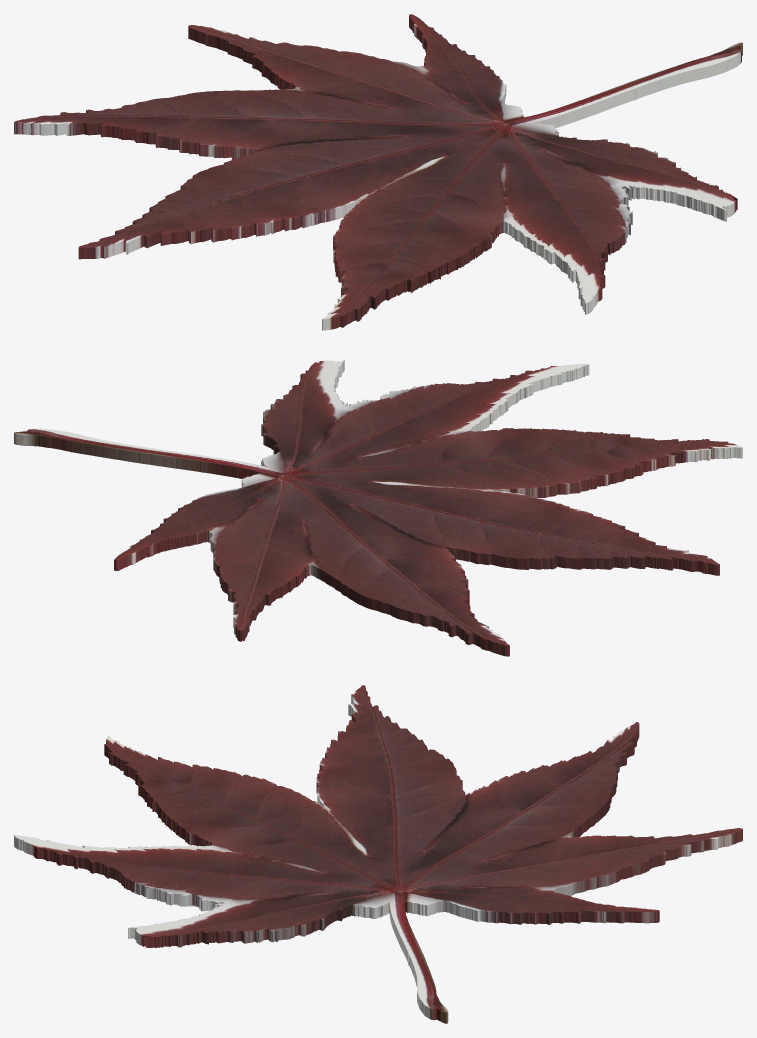
File: textured_japanese_maple_asset.glb
3 renders of one model, top to bottom at view 1: azimuth 30°, elevation 25°; view 2: azimuth 150°, elevation 25°; view 3: azimuth 270°, elevation 25°, orthographic. The views are drawn at different scales.
Parts seen in each view (by area): view 1: Mesh; view 2: Mesh; view 3: Mesh.
Part boxes in pixels (x1=…): Mesh: x1=14, y1=14, x2=742, y2=330; Mesh: x1=14, y1=359, x2=742, y2=656; Mesh: x1=14, y1=685, x2=742, y2=1023.
Bounding box in the file's own units: 13.06 × 0.2026 × 12.28.
1 material, 1 textured.
